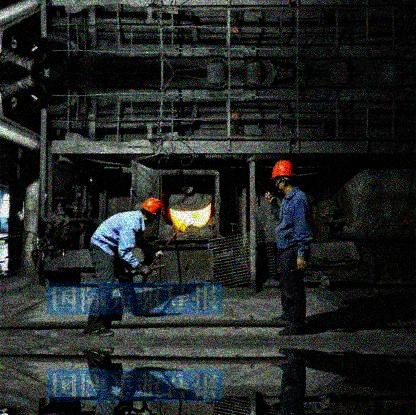helmet: (271, 158, 295, 191), (142, 197, 163, 225)
